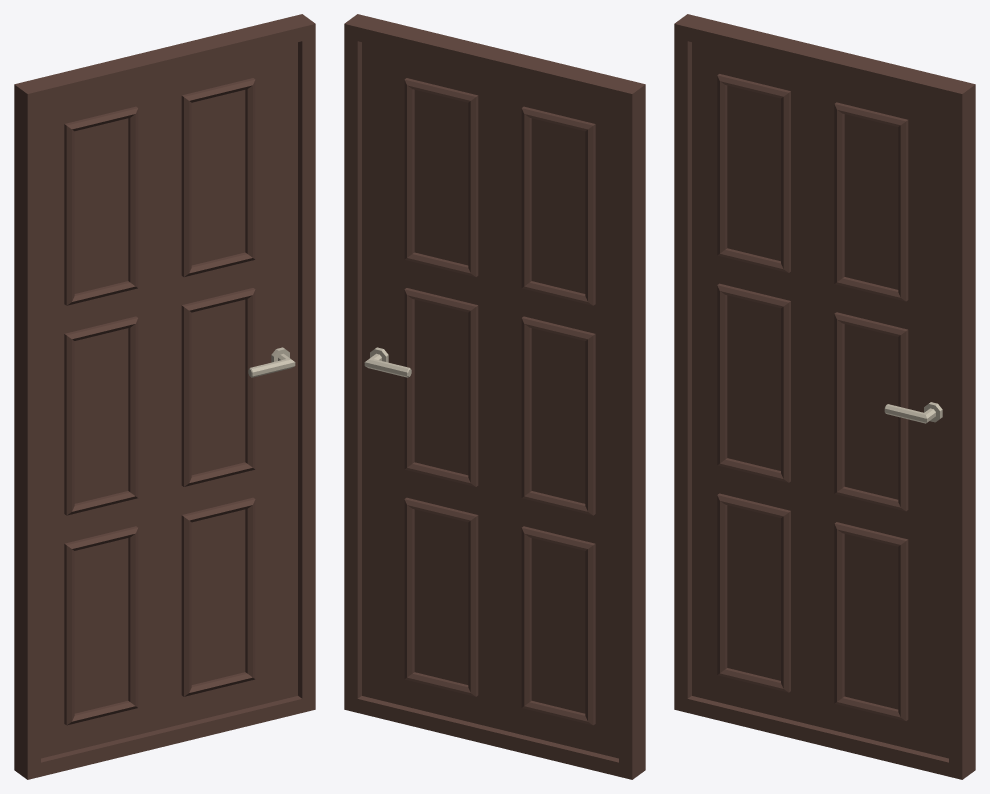
The model's file is Mesh_Door_B07.fbx.
The picture shows the model from 3 angles, left to right: view 1: azimuth 30°, elevation 25°; view 2: azimuth 150°, elevation 25°; view 3: azimuth 330°, elevation 25°; orthographic projection.
Visible parts, largest first — view 1: Mesh_Door_B07; view 2: Mesh_Door_B07; view 3: Mesh_Door_B07.
Boxes of the visible parts, bbox=[...] form: Mesh_Door_B07: bbox=[14, 14, 315, 779]; Mesh_Door_B07: bbox=[344, 14, 645, 779]; Mesh_Door_B07: bbox=[674, 14, 975, 779].
Size of the model in its own units: 0.9 by 2.05 by 0.1524.
